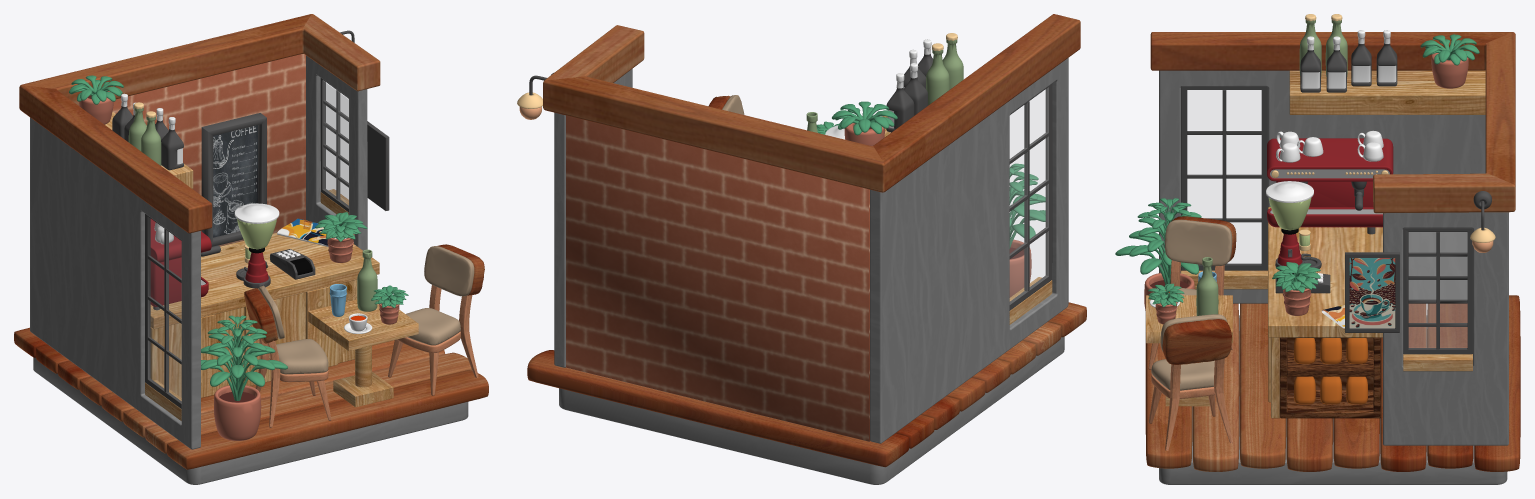
Rendered from Compress.glb.
The picture shows the model from 3 angles, left to right: view 1: azimuth 30°, elevation 25°; view 2: azimuth 150°, elevation 25°; view 3: azimuth 270°, elevation 25°; orthographic projection. The views are drawn at different scales.
Parts seen in each view (by area): view 1: Plane.001, Basis, Circle.038, Stand, Plane.002, glass.002, Plane.190, Plane.013, glass.001, Coffe_Maker_1, Circle.023, Frame_3; view 2: Plane.002, Plane.001, Basis, Circle.038, glass.002, Stand; view 3: Basis, Plane.001, Circle.038, Stand, glass.002, Coffe_Maker_1, glass.001, Plane.177, Circle.023, Plane.191, Plane.013.
Part boxes in pixels (bbox=[...]): Plane.001: bbox=[30, 55, 468, 484]; Basis: bbox=[14, 14, 488, 469]; Circle.038: bbox=[69, 30, 474, 440]; Stand: bbox=[105, 111, 418, 420]; Plane.002: bbox=[112, 54, 305, 246]; glass.002: bbox=[148, 217, 181, 403]; Plane.190: bbox=[213, 125, 257, 237]; Plane.013: bbox=[255, 285, 478, 427]; glass.001: bbox=[322, 80, 348, 208]; Coffe_Maker_1: bbox=[150, 219, 268, 306]; Circle.023: bbox=[154, 203, 372, 333]; Frame_3: bbox=[277, 218, 328, 245]; Plane.002: bbox=[566, 115, 869, 441]; Plane.001: bbox=[554, 58, 1068, 484]; Basis: bbox=[527, 14, 1086, 467]; Circle.038: bbox=[529, 39, 1052, 310]; glass.002: bbox=[1010, 88, 1048, 303]; Stand: bbox=[882, 116, 1052, 324]; Basis: bbox=[1145, 32, 1520, 471]; Plane.001: bbox=[1159, 70, 1508, 484]; Circle.038: bbox=[1115, 19, 1491, 404]; Stand: bbox=[1145, 70, 1485, 418]; glass.002: bbox=[1187, 90, 1261, 263]; Coffe_Maker_1: bbox=[1267, 138, 1393, 266]; glass.001: bbox=[1409, 232, 1467, 347]; Plane.177: bbox=[1280, 337, 1380, 418]; Circle.023: bbox=[1149, 130, 1389, 307]; Plane.191: bbox=[1349, 258, 1395, 328]; Plane.013: bbox=[1148, 260, 1232, 450].
Size of the model in its own units: 9.5 by 8.58 by 9.31.
18 materials, 12 textured.
